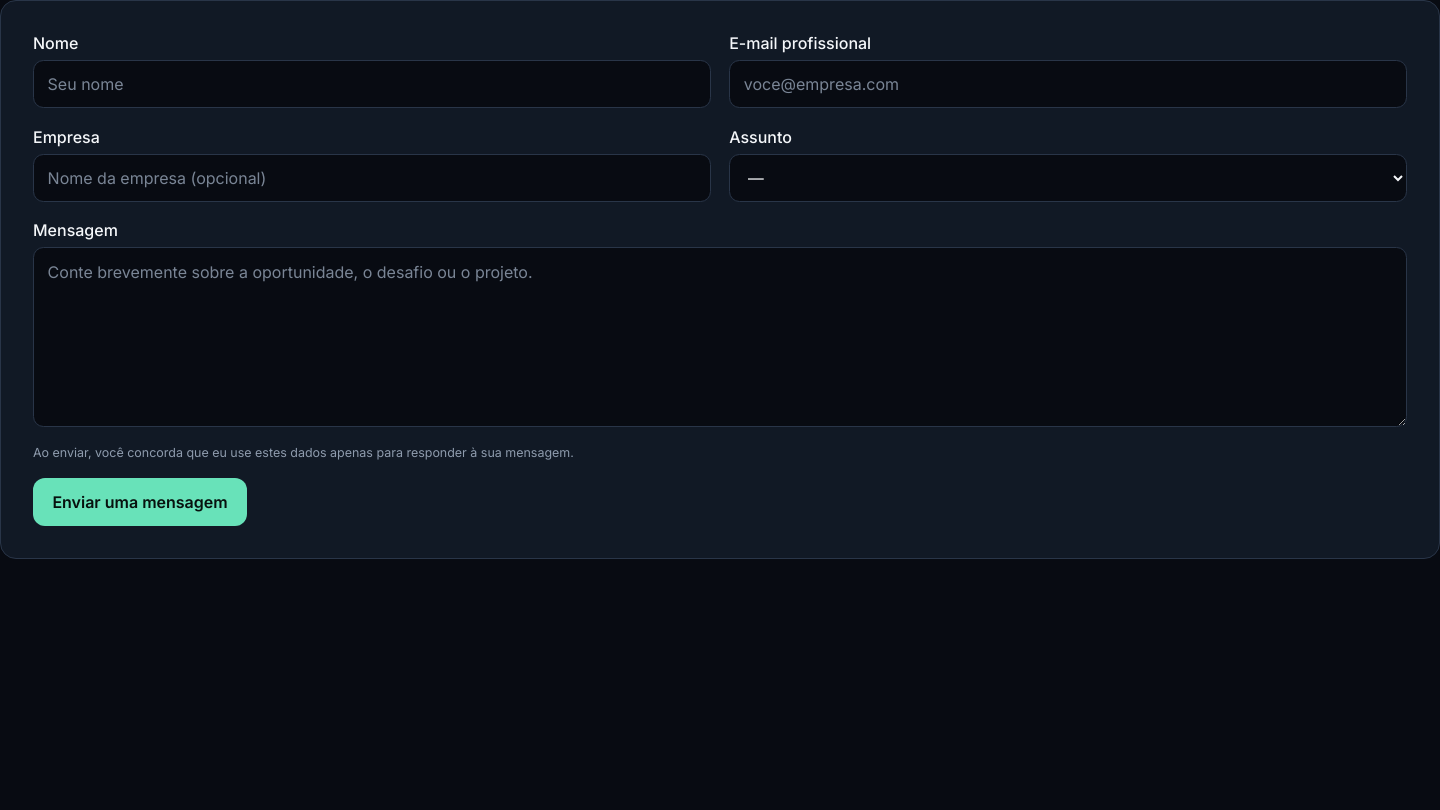
Test: contact form states › shows the real configuration error returned by the endpoint
In the field labelled "Nome": (372,84) [33,60,711,108], type "Ana Conceição"
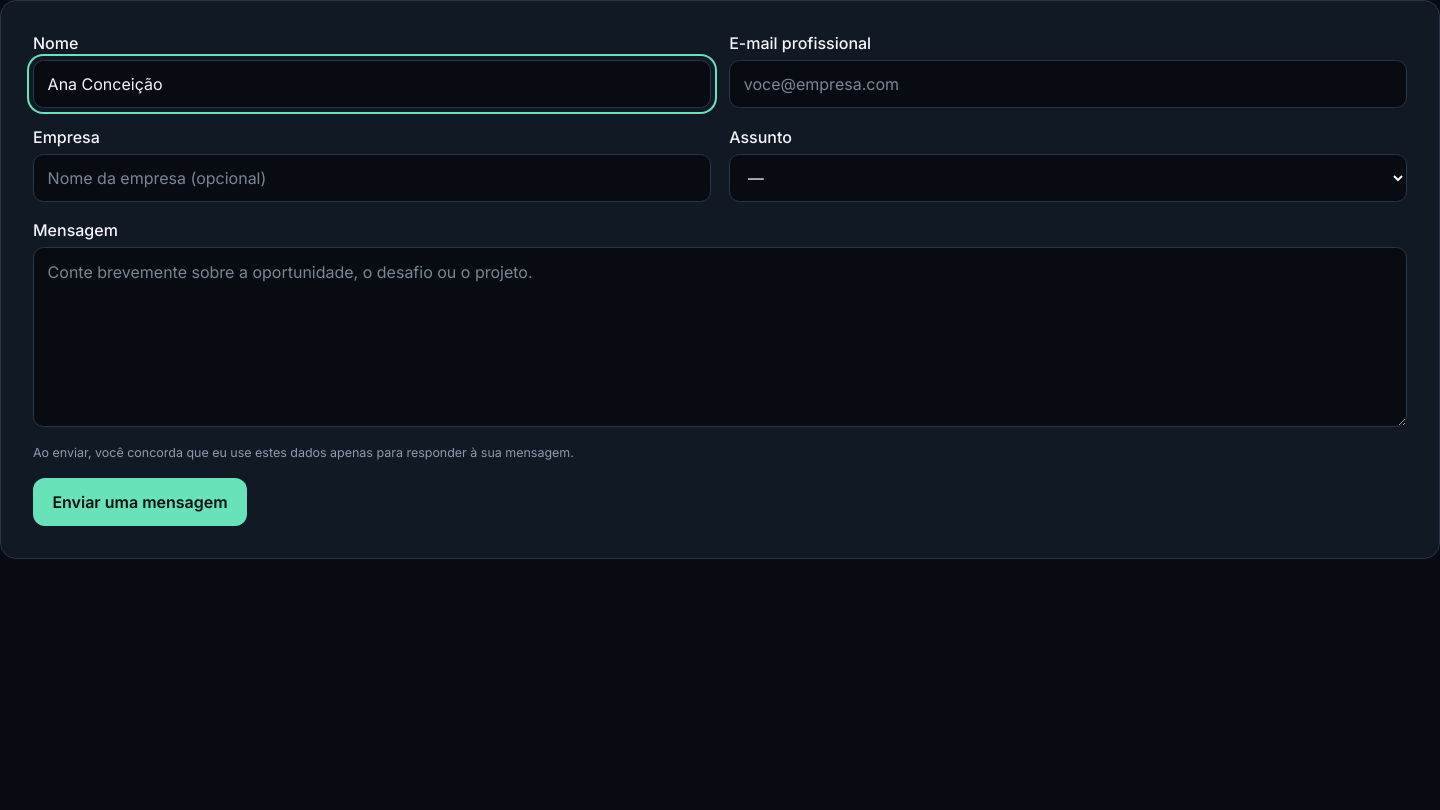
In the field labelled "E-mail profissional": (1068,84) [729,60,1407,108], type "ana@empresa.com"
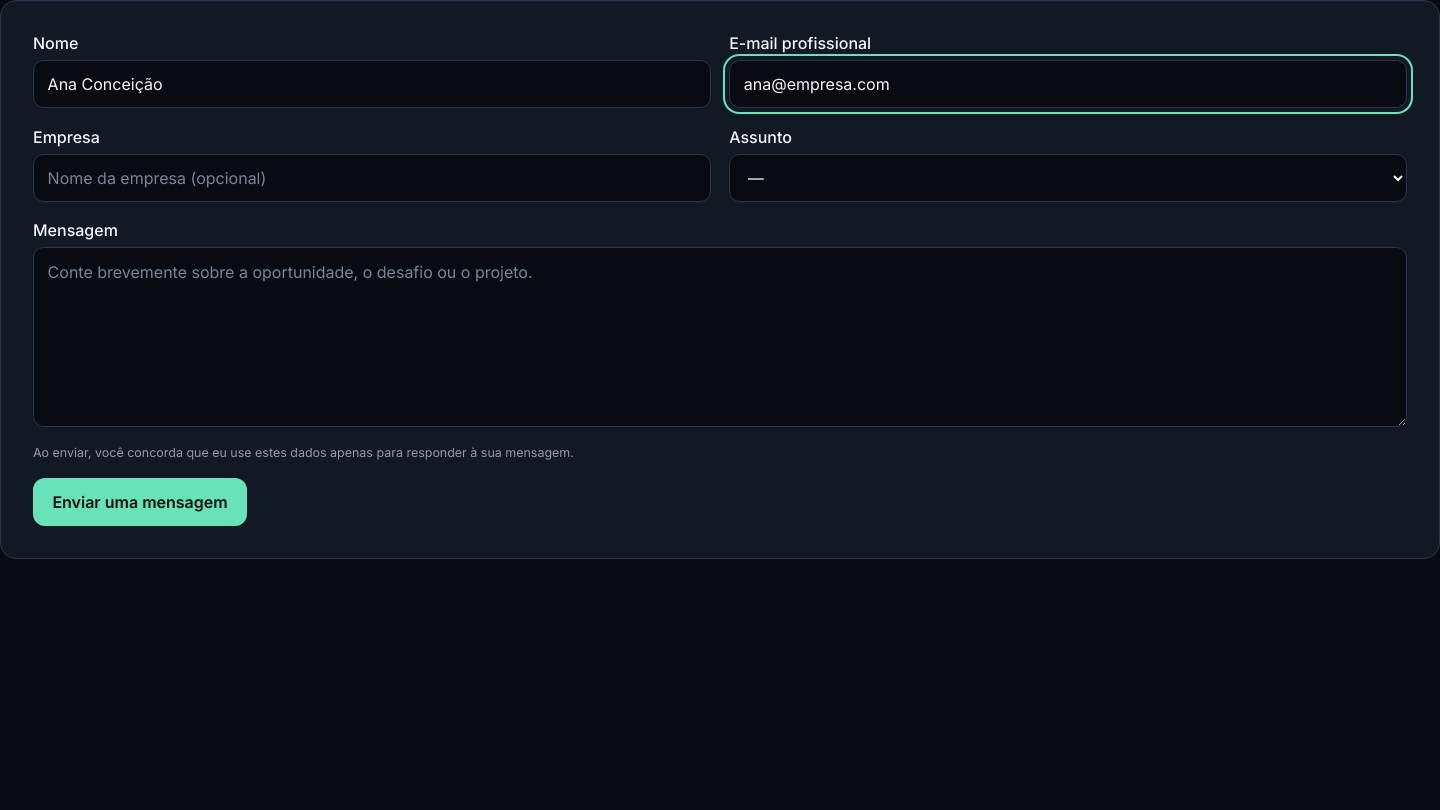
Select "Oportunidade profissional" in the dropdown labelled "Assunto": (1068,178) [729,154,1407,202]
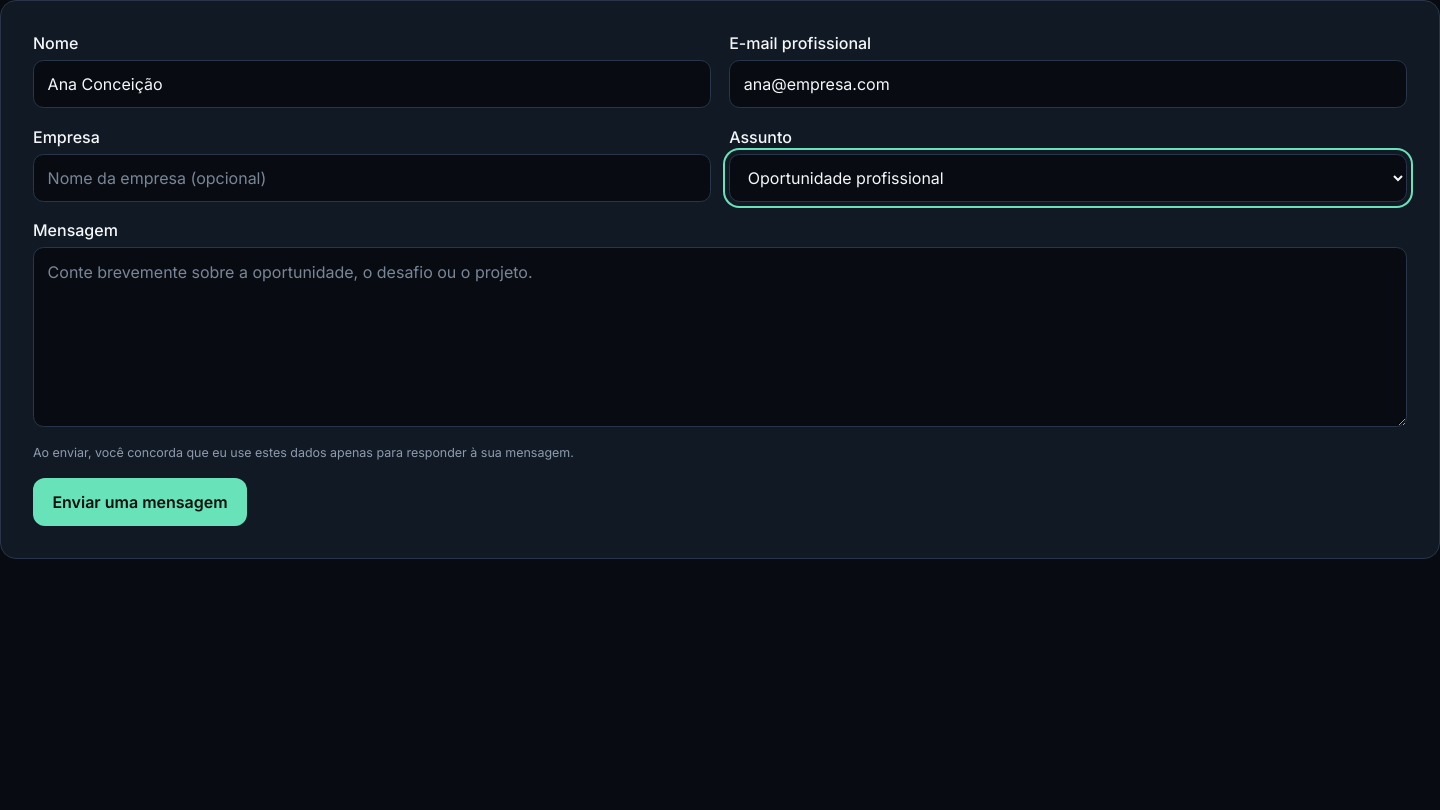
In the text box labelled "Mensagem": (720,337) [33,247,1407,427], type "Olá! Quero conversar sobre uma oportunidade remota para backend Python."
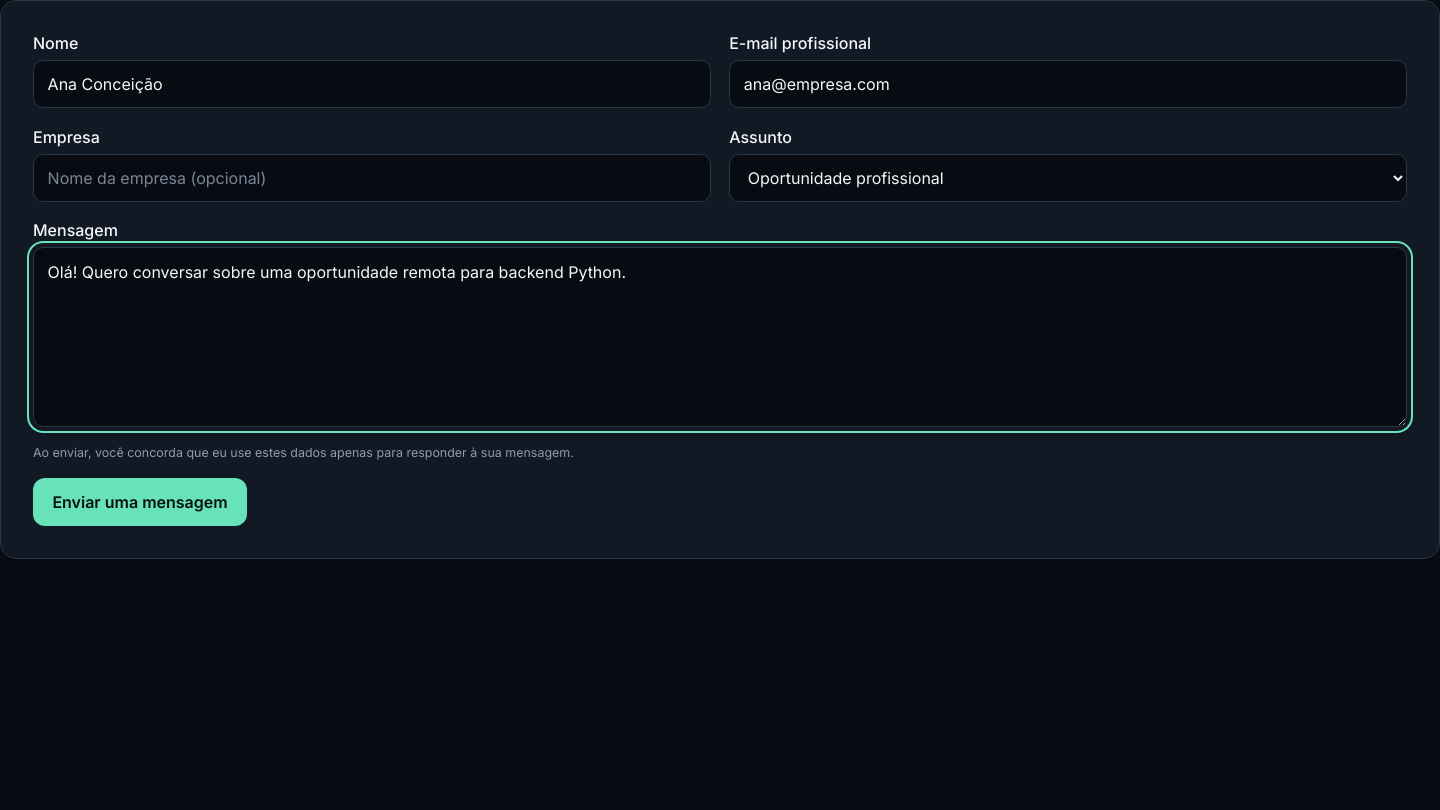
Click the button "Enviar uma mensagem": (140,502) [33,478,247,526]
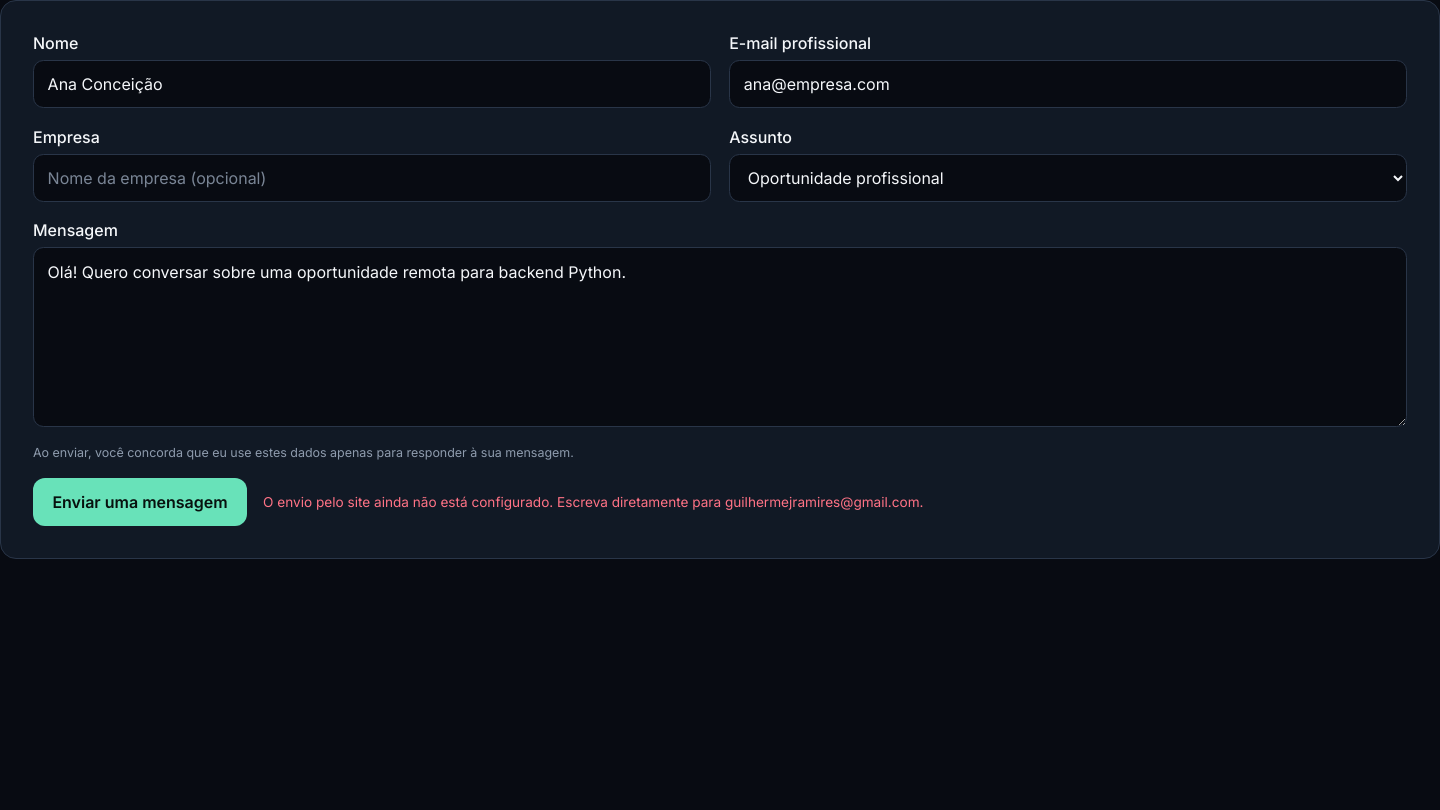
expect the message shows "O envio pelo site ainda não está configurado. Escreva diretamente para guilhermejramires@gmail.com.": met, box [263,494,924,510]
